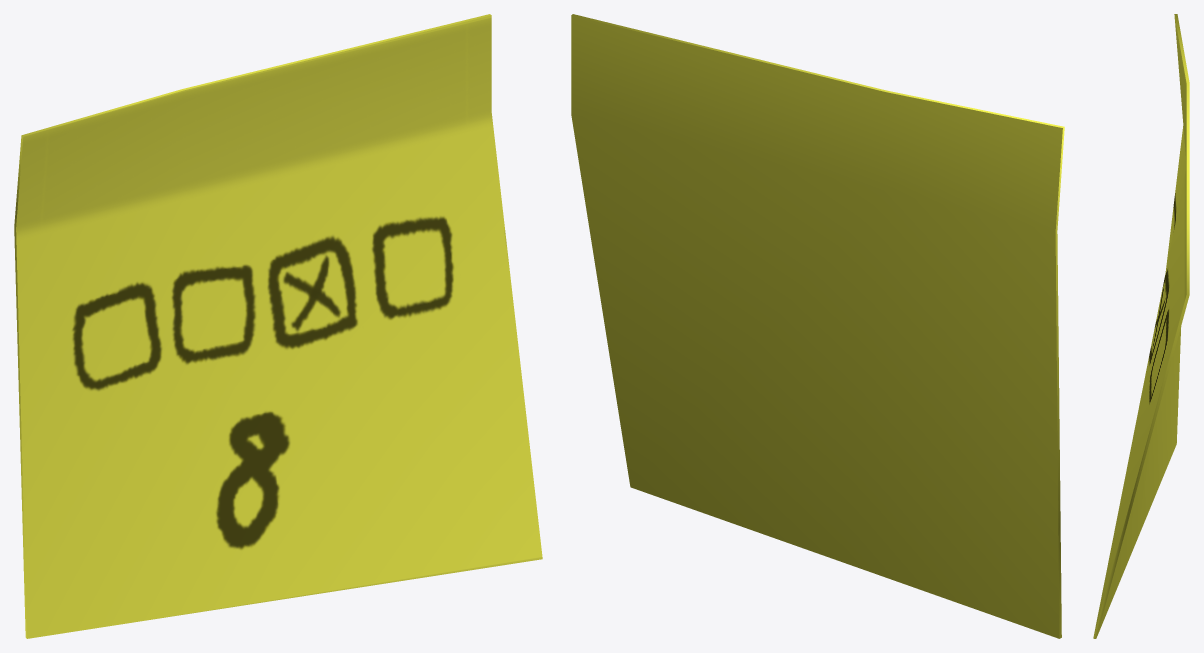
Rendered from Post-it.fbx.
3 views of the same model, side by side, from view 1: azimuth 30°, elevation 25°; view 2: azimuth 150°, elevation 25°; view 3: azimuth 270°, elevation 25° (orthographic). The views are drawn at different scales.
Visible parts, largest first — view 1: Post-it; view 2: Post-it; view 3: Post-it.
Part boxes in pixels (x1=…): Post-it: x1=14, y1=14, x2=542, y2=638; Post-it: x1=571, y1=14, x2=1064, y2=638; Post-it: x1=1093, y1=14, x2=1189, y2=638.
Size of the model in its own units: 9.91 by 10.01 by 2.04.
